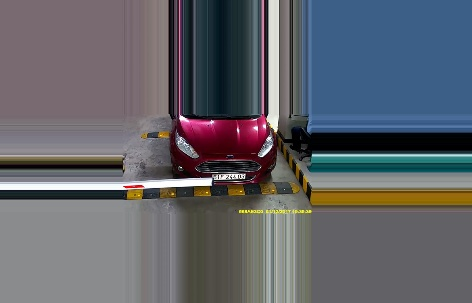plate: (209, 170, 249, 182)
